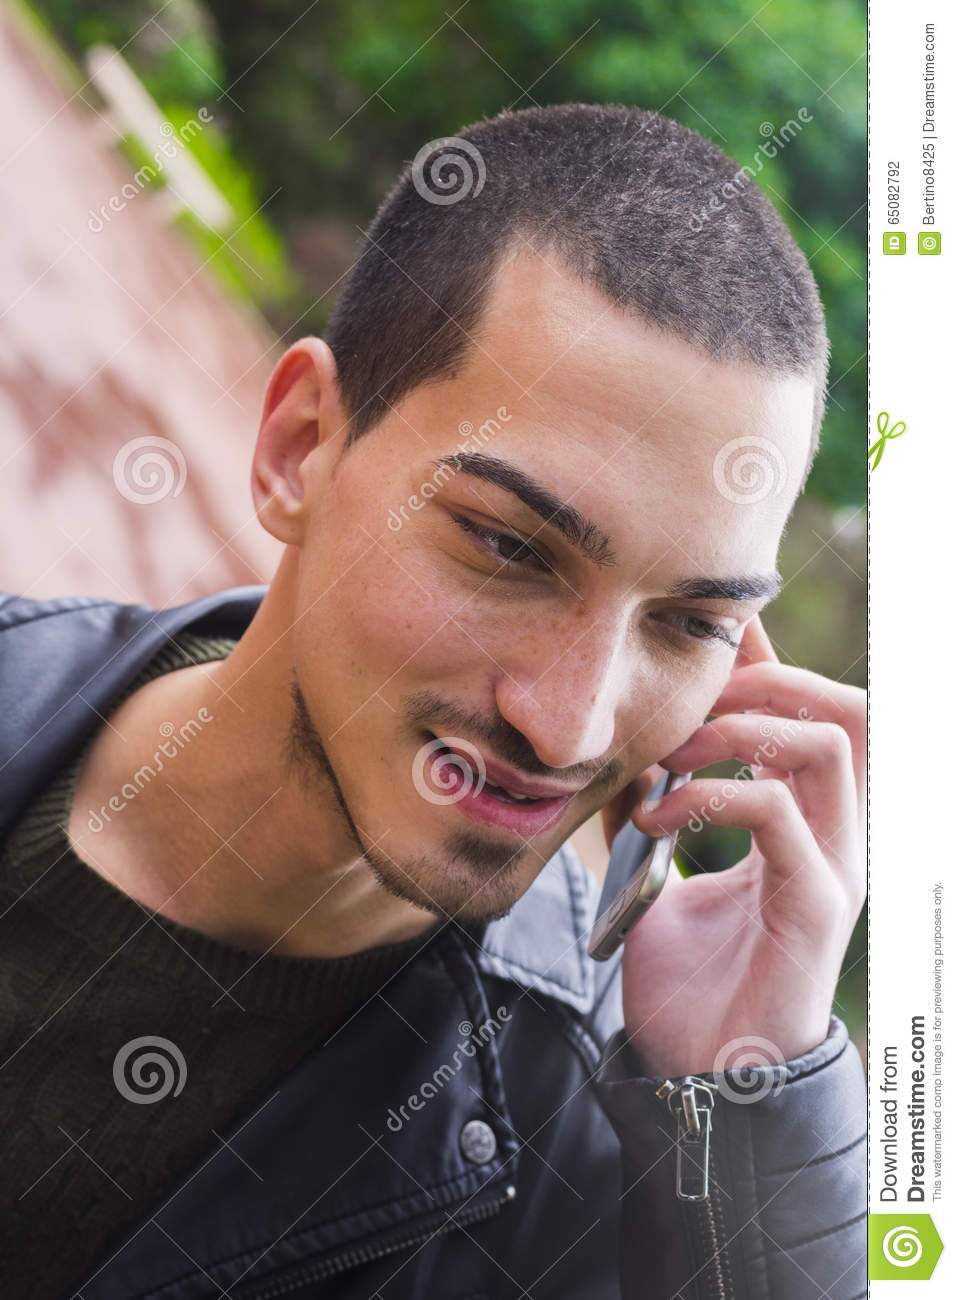phone: (578, 652, 748, 980)
talk: (359, 415, 868, 1051)
